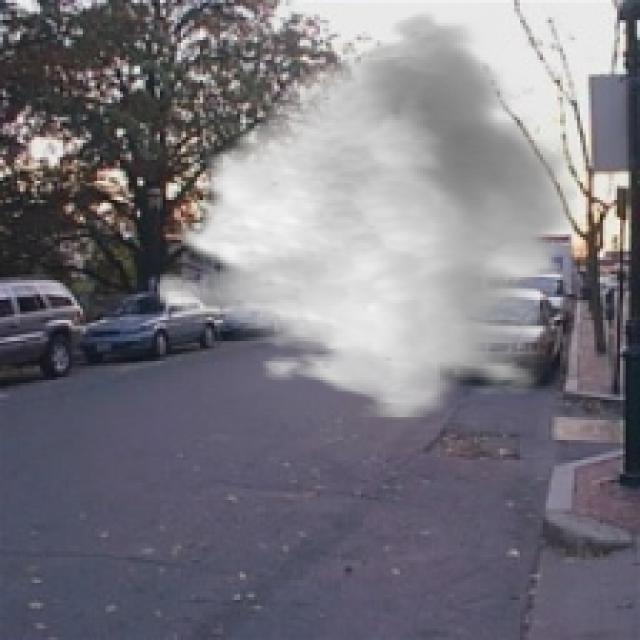Smoke: (157, 6, 577, 420)
